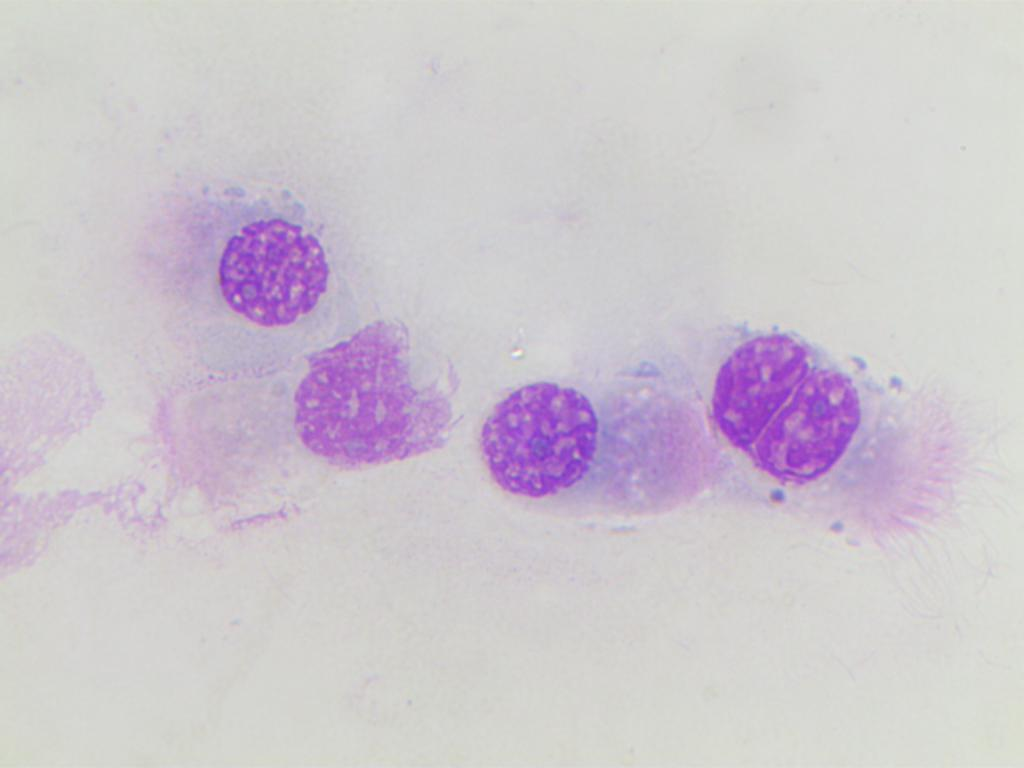artifact: (294, 331, 453, 468)
epithelial: (480, 366, 604, 505), (216, 212, 341, 329), (708, 329, 813, 450), (762, 370, 862, 482)
